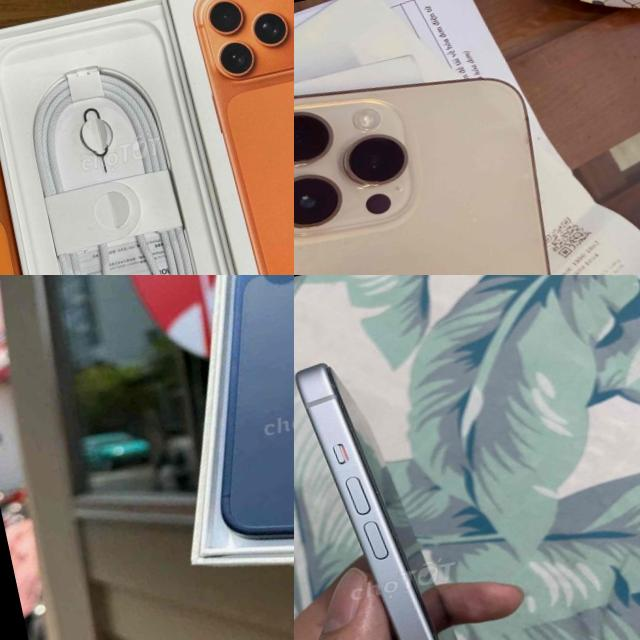gen_14: (294, 38, 626, 275)
gen_15: (294, 318, 555, 640)
gen_17: (149, 275, 294, 573)
